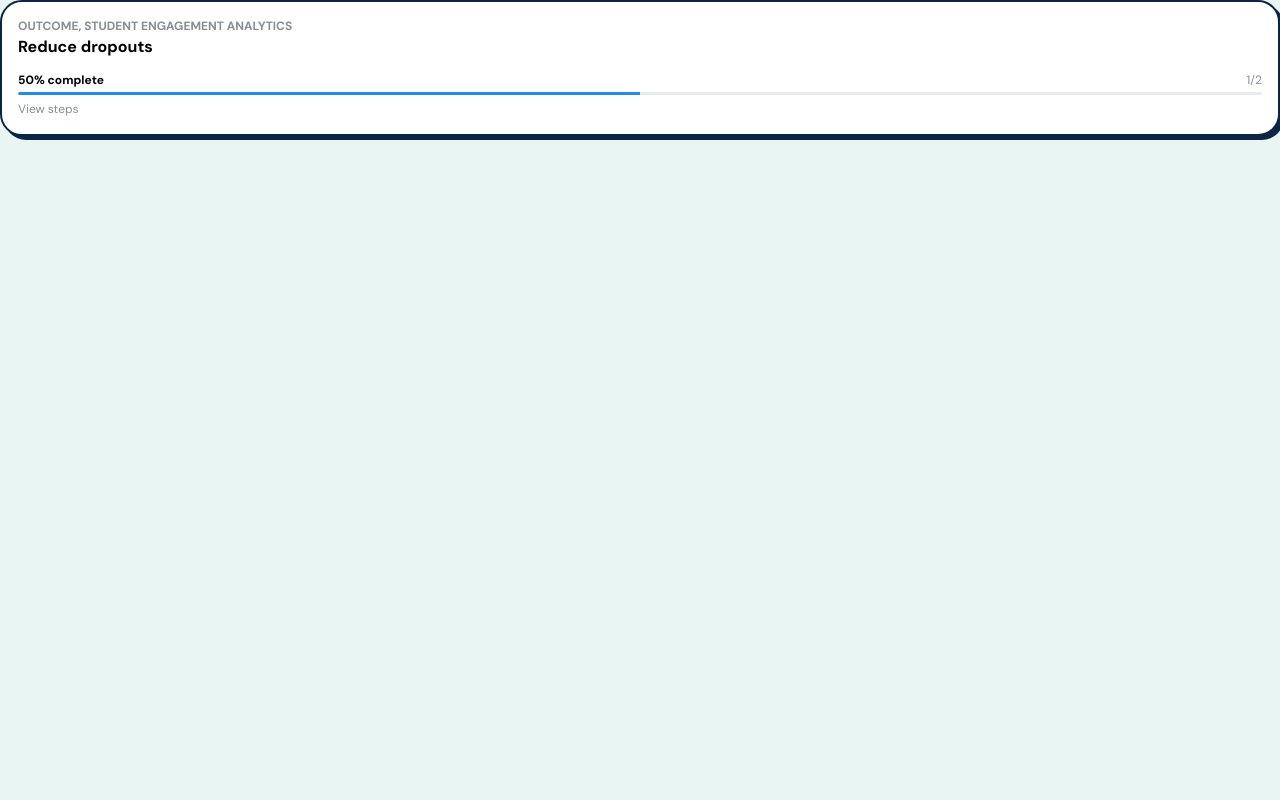
OST compact card › shows live completion on the card face and keeps it in sync while the drawer is open
Click the button with aria-label "View steps for Reduce dropouts".
click(51, 26)  # box [18,18,1262,118]
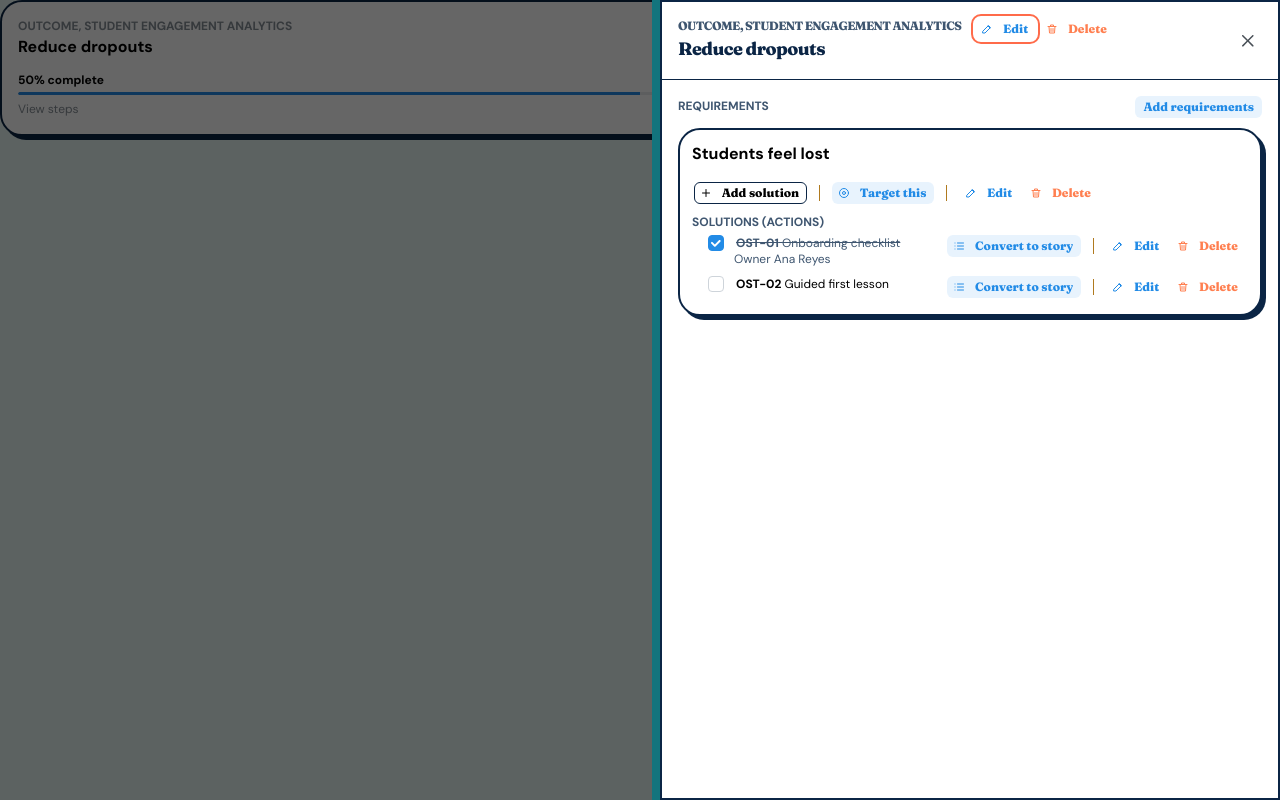
Check: the text "Students feel lost" is not shown
Click the checkbox labelled "OST-02 Guided first lesson".
click(716, 284)  # box [708,276,724,292]
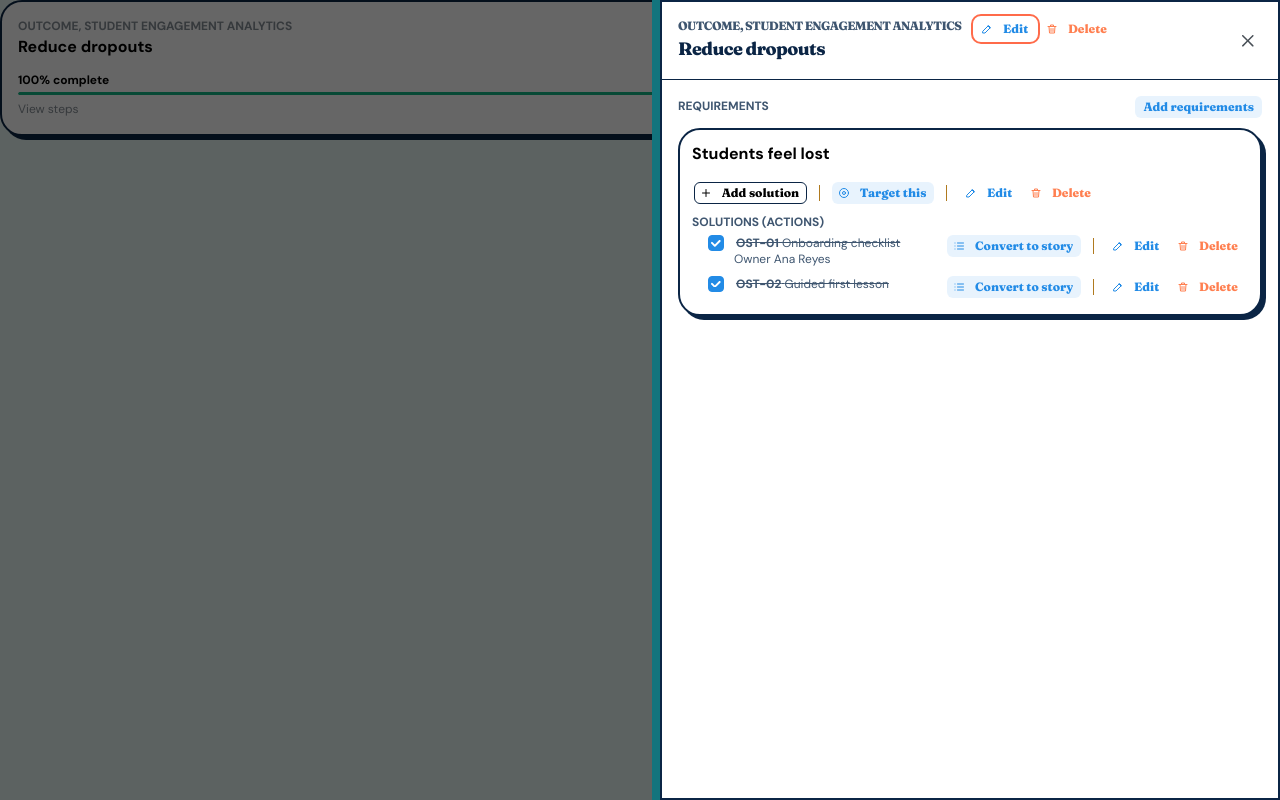
Check: the dialog is shown, box [660,0,1279,799]
Check: the button with aria-label "View steps for Reduce dropouts" shows "100% complete", box [18,18,1262,118]
